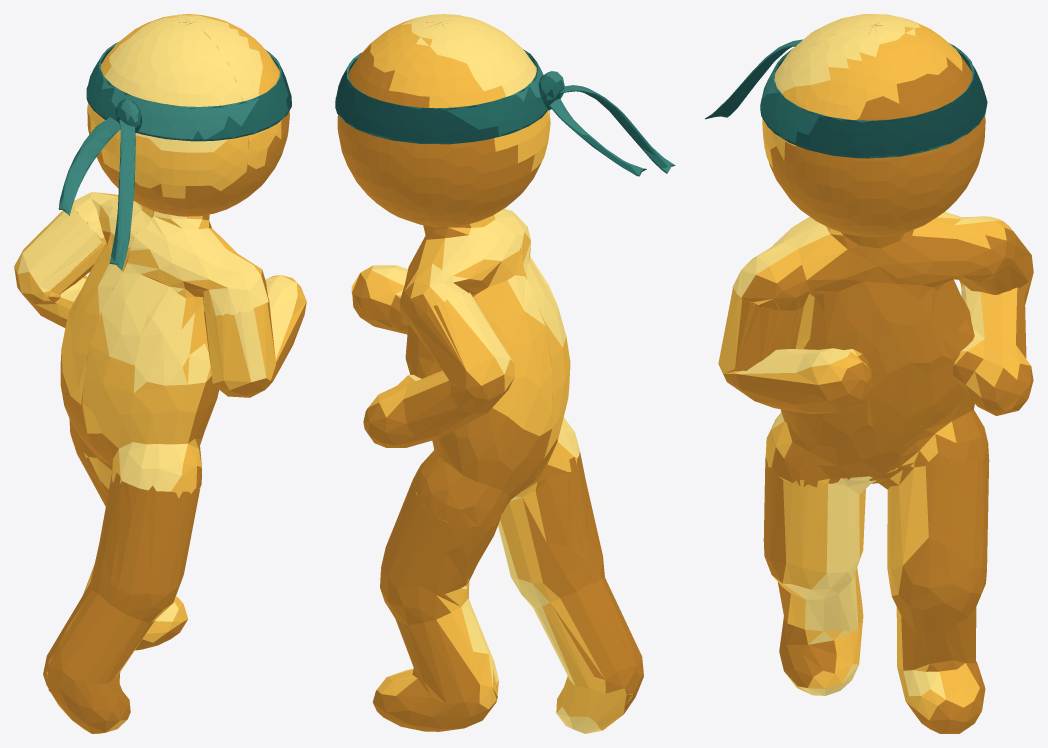
Rendered from Ninja_Jog1_R.gltf.
The picture shows the model from 3 angles, left to right: view 1: azimuth 30°, elevation 25°; view 2: azimuth 150°, elevation 25°; view 3: azimuth 270°, elevation 25°; orthographic projection. The views are drawn at different scales.
Visible parts, largest first — view 1: Ninja_Jog1_R_baked; view 2: Ninja_Jog1_R_baked; view 3: Ninja_Jog1_R_baked.
Part boxes in pixels (box(x1,y1,x2,y2)): Ninja_Jog1_R_baked: box(14, 14, 306, 733); Ninja_Jog1_R_baked: box(335, 14, 675, 733); Ninja_Jog1_R_baked: box(705, 14, 1033, 733).
Size of the model in its own units: 0.4139 by 1 by 0.4097.
